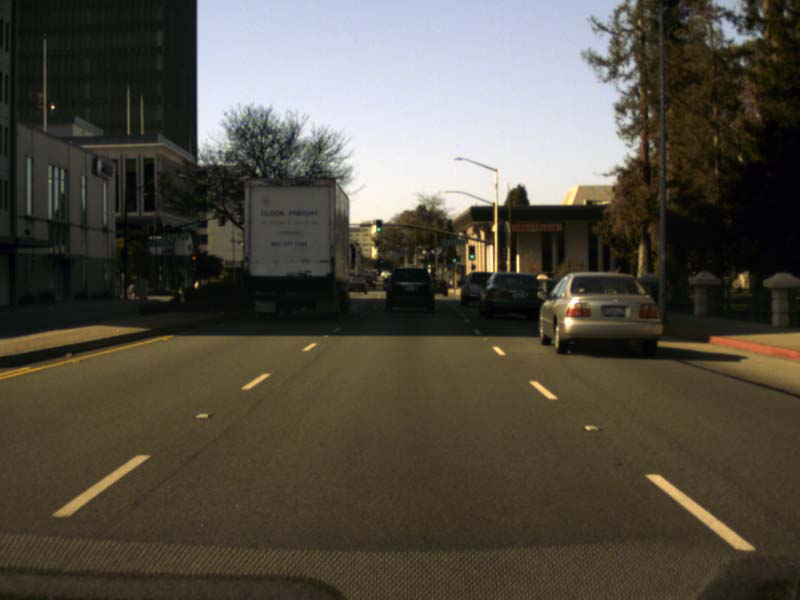Green: (467, 246, 474, 260), (451, 250, 457, 264), (375, 219, 381, 233)
Yellow: (191, 251, 196, 264)
